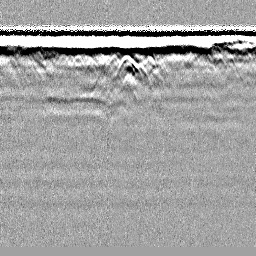cavity: (113, 52, 143, 80)
